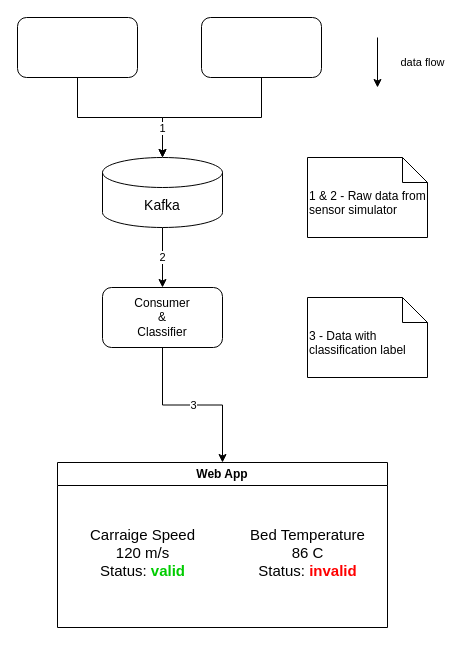
Some shapes in this 475 by 645 pixel diagram are drawn without their labels. The centre of each missing label's shape, as x and y in pixels:
Bed Temperature Sensor Simulator: the point at 261,47
Carriage Speed Sensor Simulator: the point at 77,47
